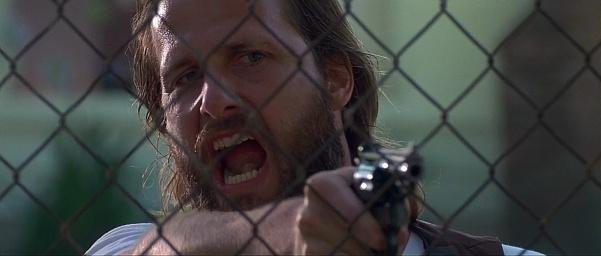Gun: (351, 143, 423, 253)
